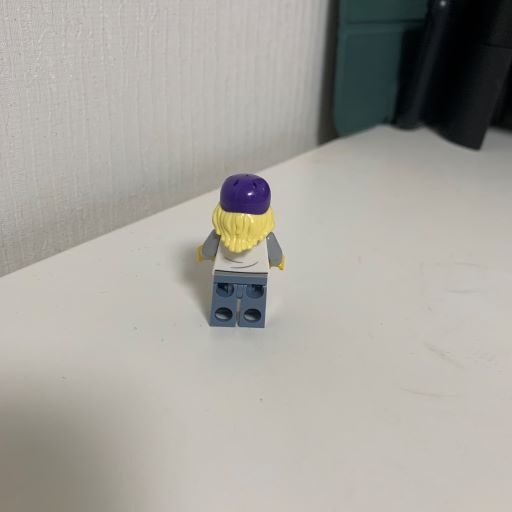human: (172, 162, 300, 338)
